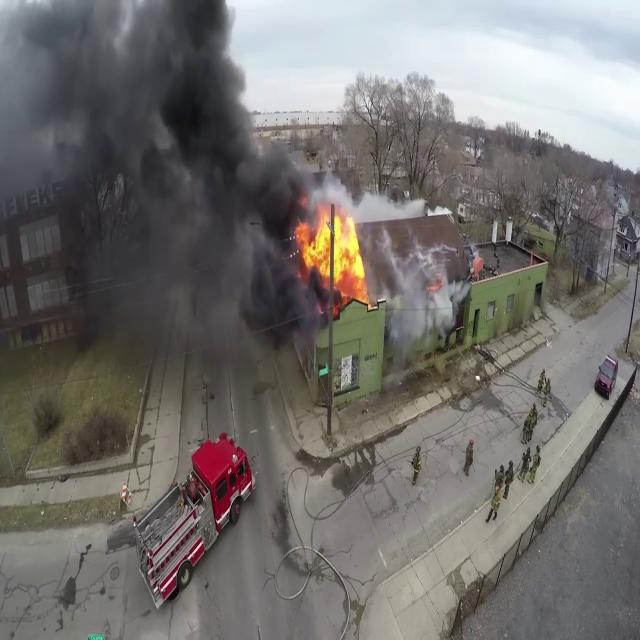Fire: (291, 200, 370, 300)
Smoke: (0, 0, 314, 363)
